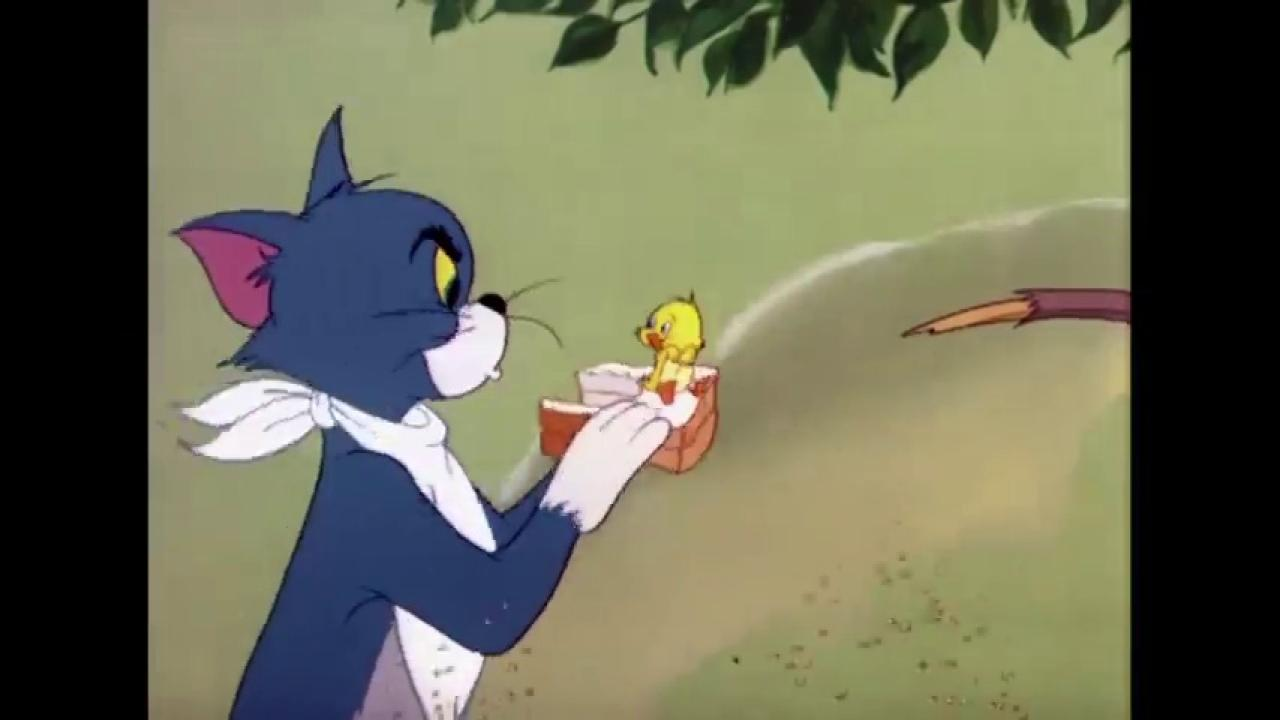Tom: (169, 105, 674, 720)
